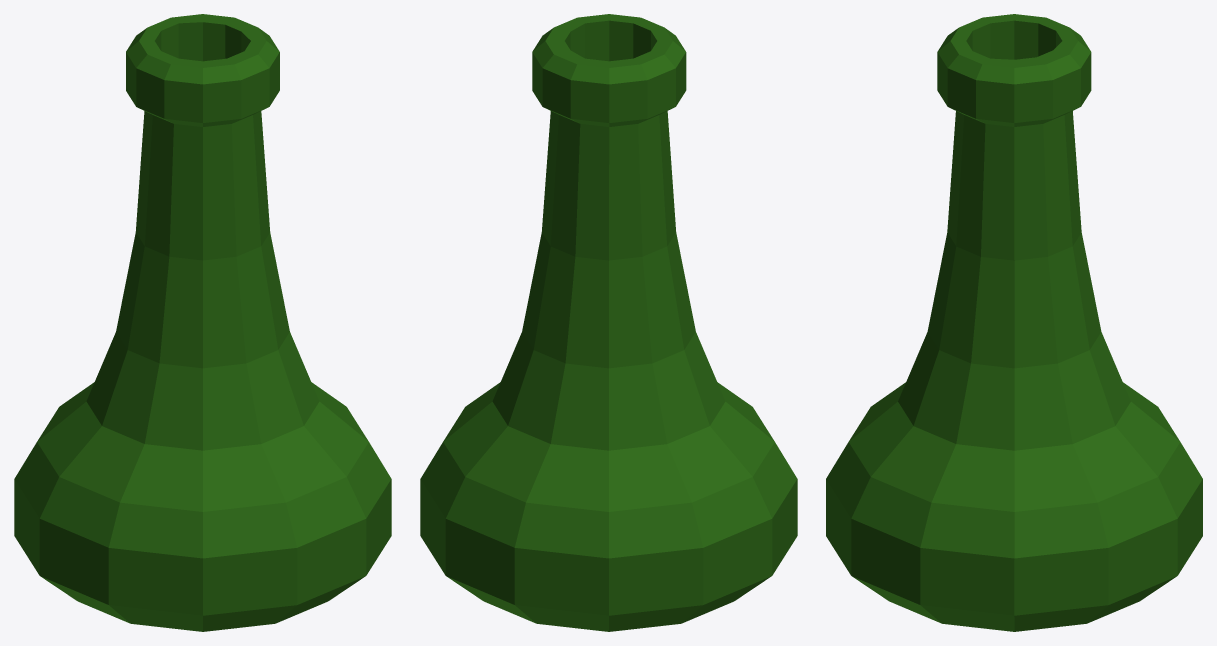
Rendered from BottleOpenLong.fbx.
3 renders of one model, left to right at view 1: azimuth 30°, elevation 25°; view 2: azimuth 150°, elevation 25°; view 3: azimuth 270°, elevation 25°, orthographic.
Parts seen in each view (by area): view 1: BottleV1; view 2: BottleV1; view 3: BottleV1.
Part boxes in pixels (<box>): BottleV1: <box>14,14,391,631</box>; BottleV1: <box>420,14,797,631</box>; BottleV1: <box>826,14,1202,631</box>.
Size of the model in its own units: 25.84 by 40.06 by 25.84.
